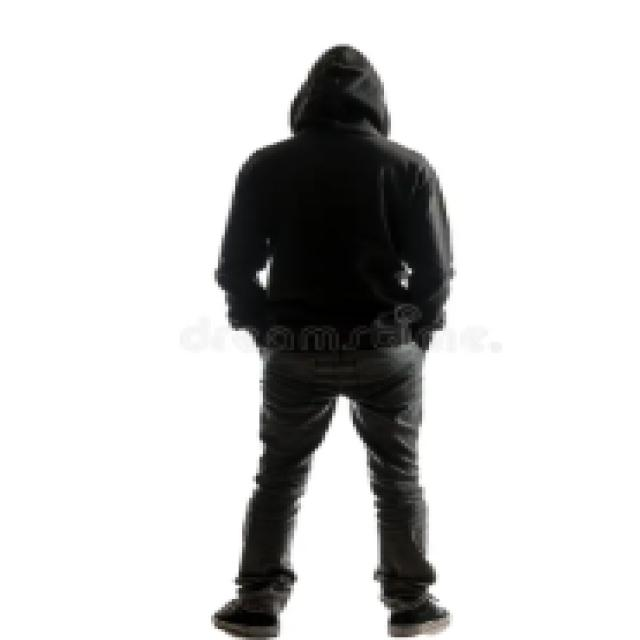4_capucha: (281, 40, 394, 148)
